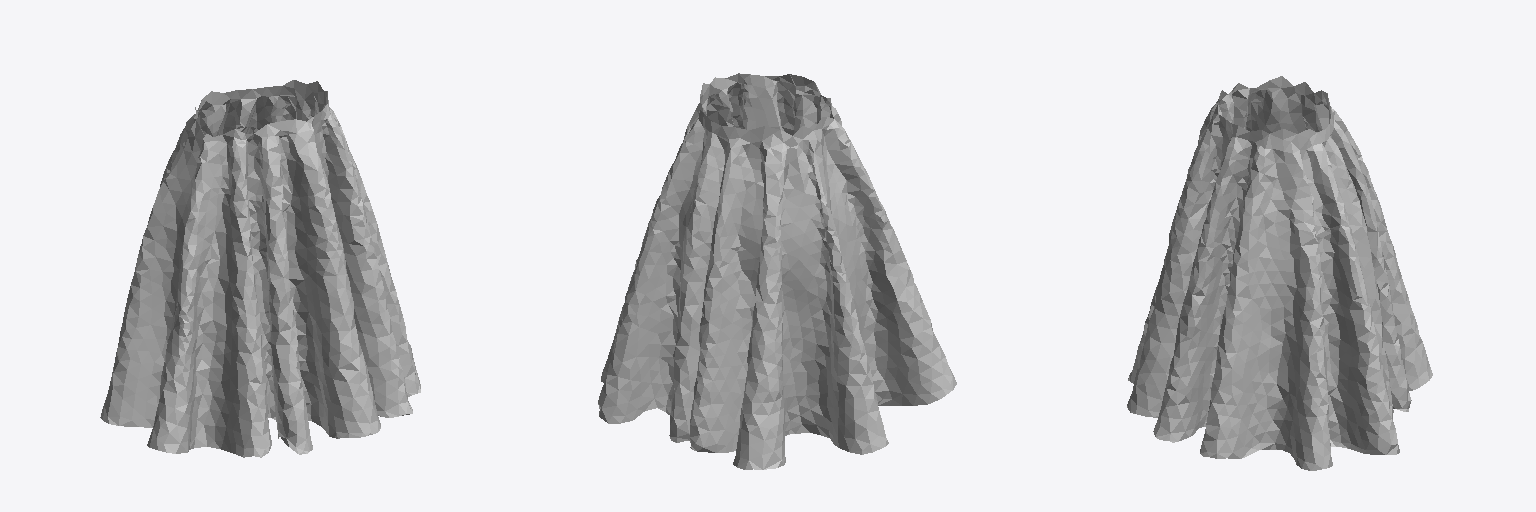
The model's file is dress-handsup-drape.obj.
3 views of the same model, side by side, from view 1: azimuth 30°, elevation 25°; view 2: azimuth 150°, elevation 25°; view 3: azimuth 270°, elevation 25° (orthographic).
Parts seen in each view (by area): view 1: dress-v5k-f10k-v2.001; view 2: dress-v5k-f10k-v2.001; view 3: dress-v5k-f10k-v2.001.
Part boxes in pixels (x1,y1,x2,y2): dress-v5k-f10k-v2.001: (100,80,420,457); dress-v5k-f10k-v2.001: (598,73,956,469); dress-v5k-f10k-v2.001: (1127,76,1432,470).
Bounding box in the file's own units: 23.57 × 24.44 × 21.41.